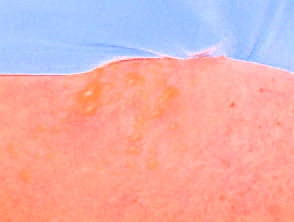SJS-TEN: (0, 42, 294, 222)
